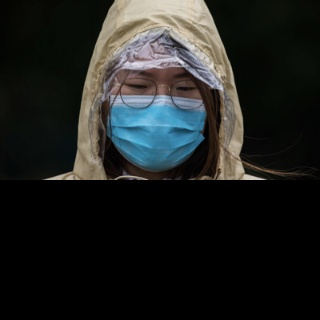with_mask: (104, 68, 207, 172)
